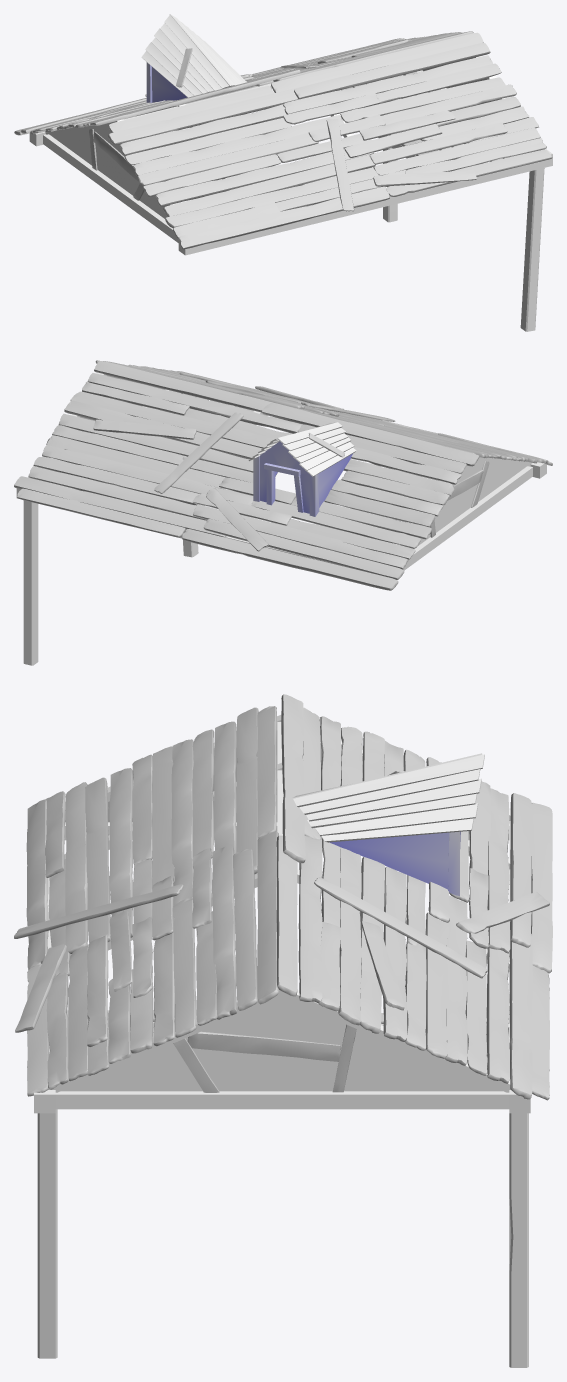
Rendered from SM_Roof6x6m_01.fbx.
3 views of the same model, one above another, from view 1: azimuth 30°, elevation 25°; view 2: azimuth 150°, elevation 25°; view 3: azimuth 270°, elevation 25° (orthographic). The views are drawn at different scales.
Visible parts, largest first — view 1: SM_Roof6x6m_01_LOD0; view 2: SM_Roof6x6m_01_LOD0; view 3: SM_Roof6x6m_01_LOD0.
Boxes of the visible parts, x1,y1,x2,y2 form: SM_Roof6x6m_01_LOD0: [14, 14, 552, 331]; SM_Roof6x6m_01_LOD0: [14, 360, 552, 665]; SM_Roof6x6m_01_LOD0: [14, 694, 552, 1367].
Size of the model in its own units: 882 by 673 by 593.
